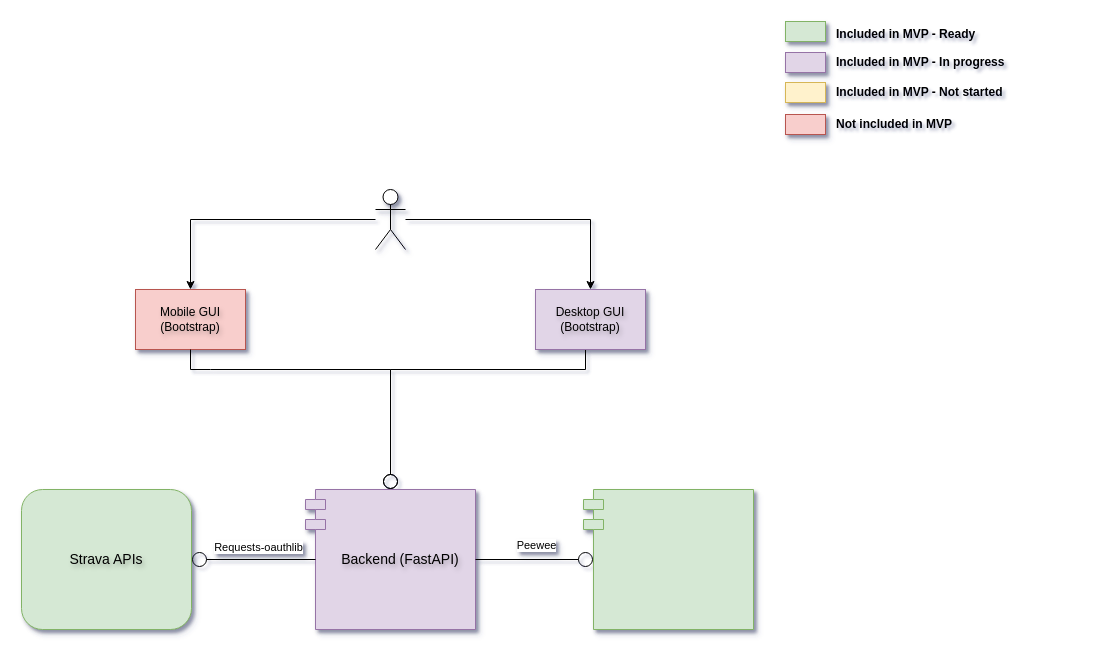
Image size: 1109x660. Some labels were removed from this diagram. The centre of each missing label's shape, as x and y in pixels:
Rider: the point at 391,220
SQL Compliant Datastore: the point at 669,560
